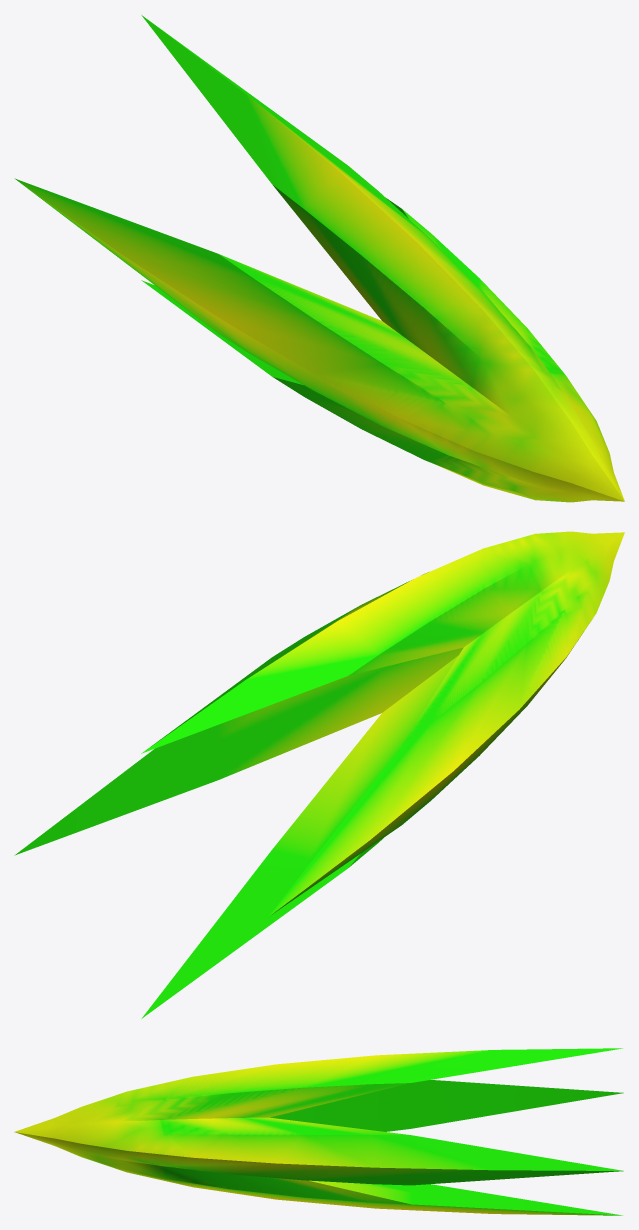
File: BulletEnemy3.fbx
The picture shows the model from 3 angles, top to bottom: view 1: azimuth 30°, elevation 25°; view 2: azimuth 150°, elevation 25°; view 3: azimuth 270°, elevation 25°; orthographic projection. The views are drawn at different scales.
Visible parts, largest first — view 1: BulletEne3; view 2: BulletEne3; view 3: BulletEne3.
Boxes of the visible parts, <box> form: BulletEne3: <box>14,15,624,502</box>; BulletEne3: <box>14,531,624,1018</box>; BulletEne3: <box>14,1048,623,1215</box>.
Bounding box in the file's own units: 0.3026 × 0.3026 × 1.
Materials: 1 (1 with a texture image).
